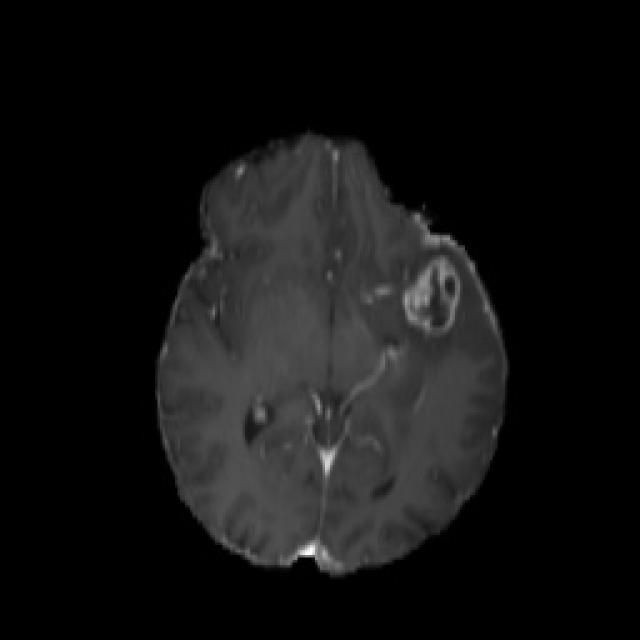negative: (404, 256, 461, 334)
